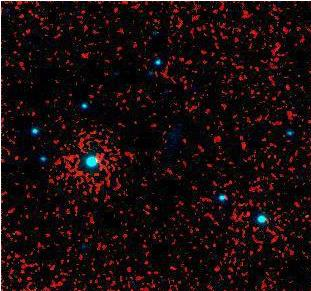star: (289, 200, 311, 230)
